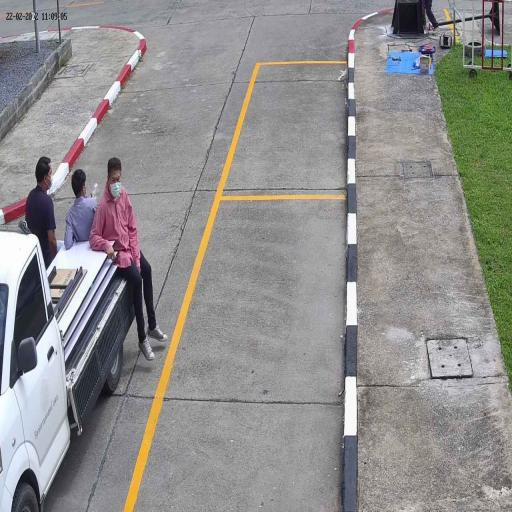car: (0, 230, 132, 511)
